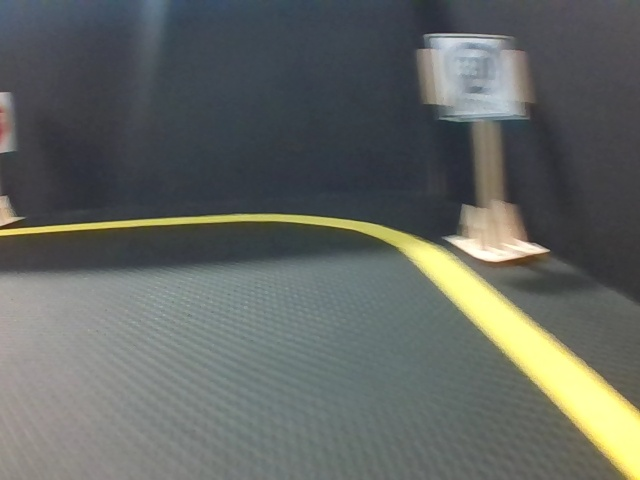no30: (429, 34, 526, 120)
stop: (1, 92, 14, 150)
